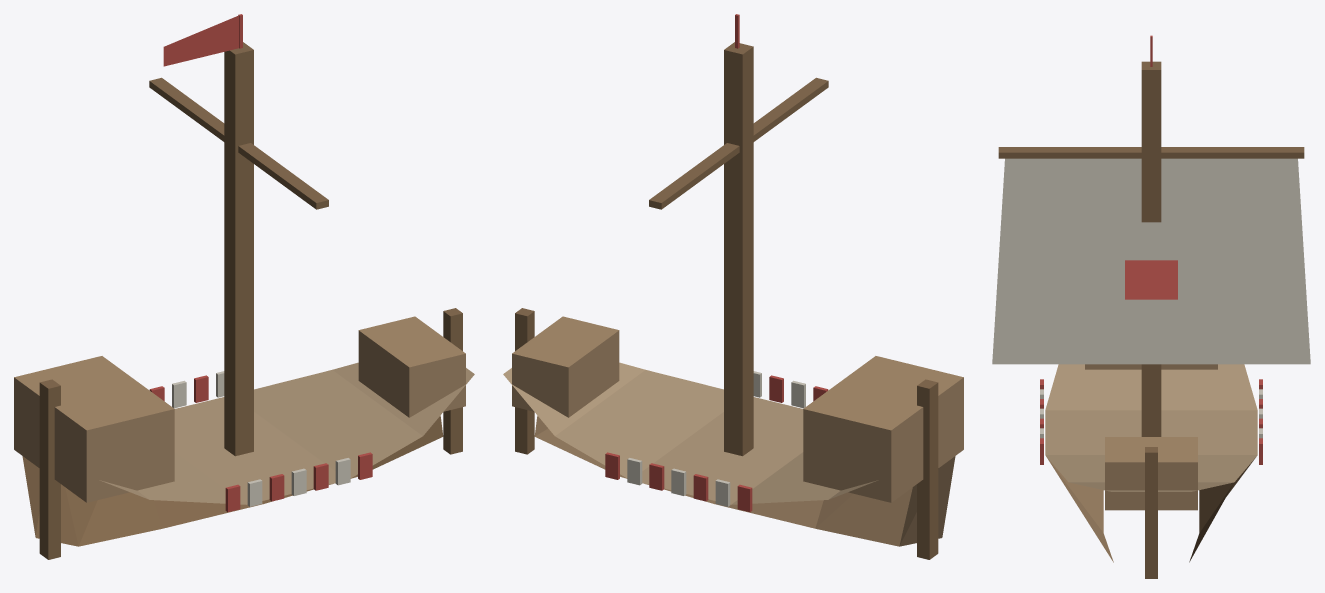
File: cog.gltf
3 views of the same model, side by side, from view 1: azimuth 30°, elevation 25°; view 2: azimuth 150°, elevation 25°; view 3: azimuth 270°, elevation 25° (orthographic). The views are drawn at different scales.
Visible parts, largest first — view 1: cog; view 2: cog; view 3: cog.
Boxes of the visible parts, <box> form: cog: <box>14,14,474,559</box>; cog: <box>503,14,963,559</box>; cog: <box>992,35,1310,578</box>.
Bounding box in the file's own units: 6.6 × 7.9 × 4.8.
